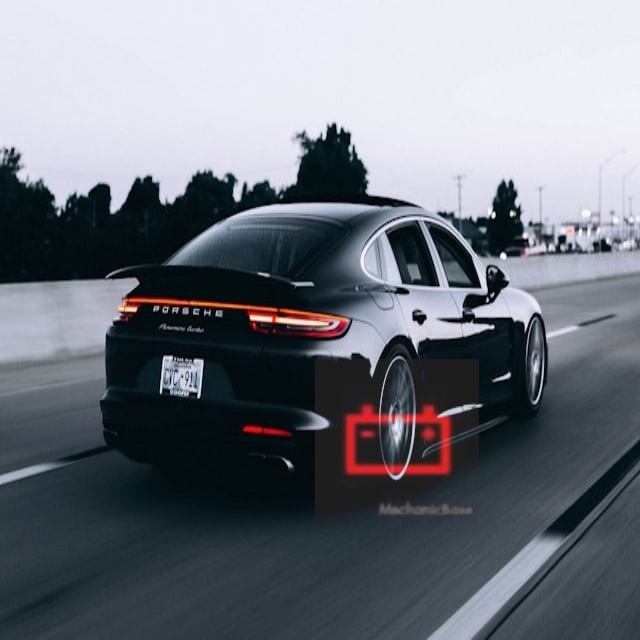symbol: (315, 359, 479, 523)
